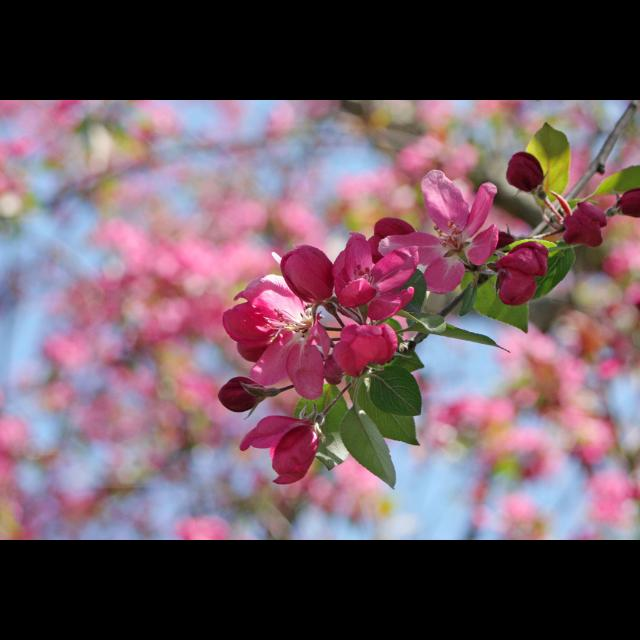Flower: (218, 246, 422, 484), (376, 170, 502, 296)
